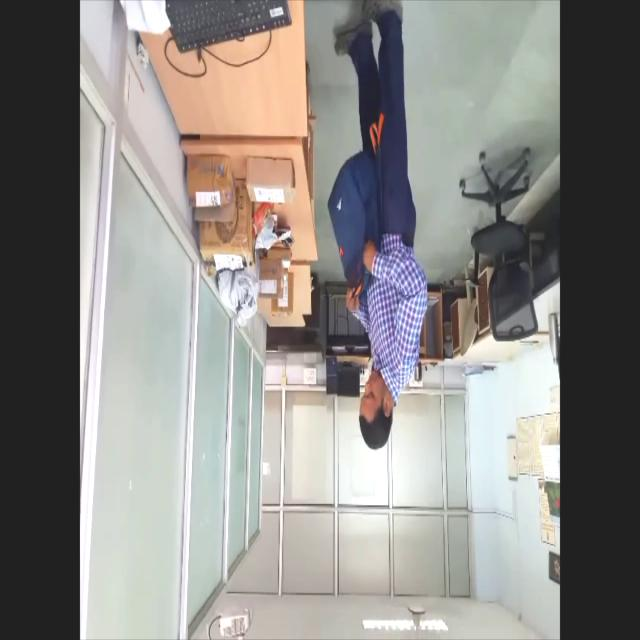shoplifting: (328, 4, 434, 470)
